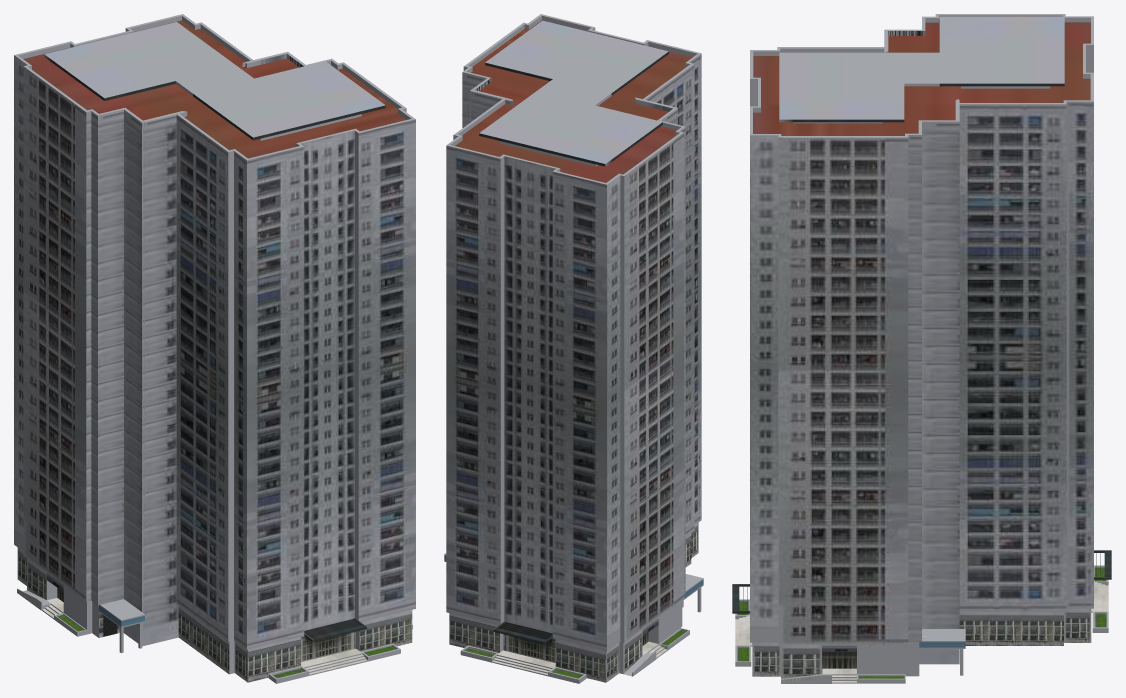
3 renders of one model, left to right at view 1: azimuth 30°, elevation 25°; view 2: azimuth 150°, elevation 25°; view 3: azimuth 270°, elevation 25°, orthographic. The views are drawn at different scales.
Visible parts, largest first — view 1: HN514_A14A1_NAM_TRUNG_YEN; view 2: HN514_A14A1_NAM_TRUNG_YEN; view 3: HN514_A14A1_NAM_TRUNG_YEN.
Part boxes in pixels (x1,y1,x2,y2): HN514_A14A1_NAM_TRUNG_YEN: [14, 14, 415, 683]; HN514_A14A1_NAM_TRUNG_YEN: [444, 14, 703, 683]; HN514_A14A1_NAM_TRUNG_YEN: [732, 14, 1111, 683].
Size of the model in its own units: 39.82 by 77.78 by 48.55.
1 material, 1 textured.
